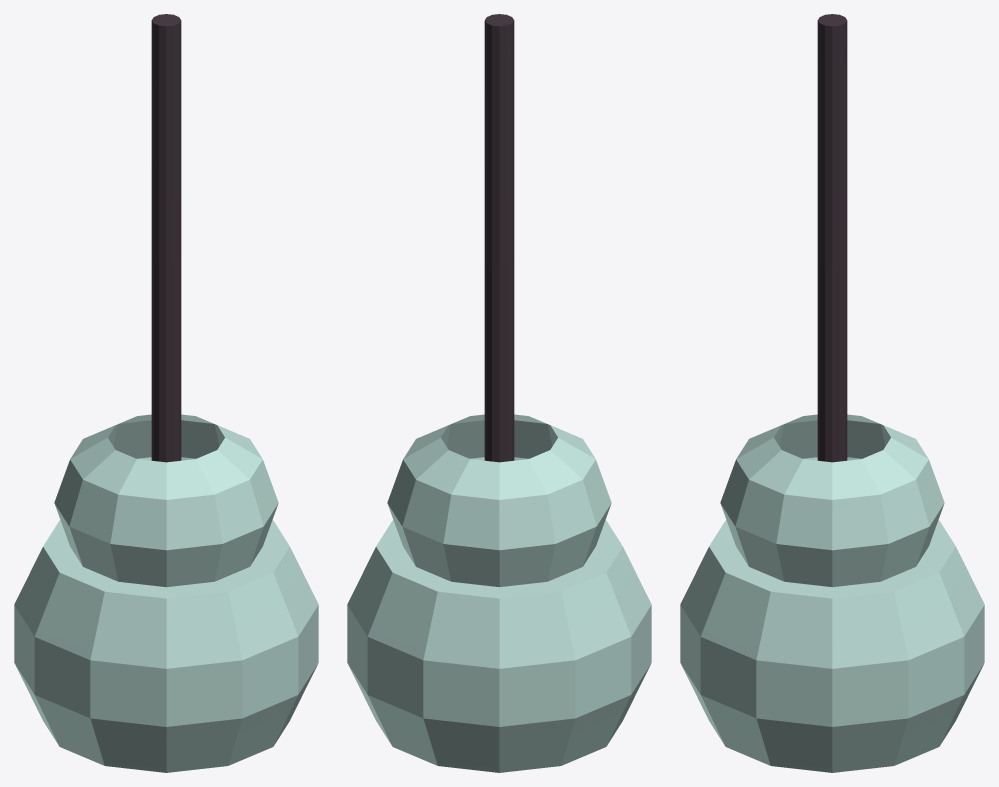
The model's file is light.fbx.
The picture shows the model from 3 angles, left to right: view 1: azimuth 30°, elevation 25°; view 2: azimuth 150°, elevation 25°; view 3: azimuth 270°, elevation 25°; orthographic projection.
Visible parts, largest first — view 1: Cylinder.007; view 2: Cylinder.007; view 3: Cylinder.007.
Part boxes in pixels (x1=…): Cylinder.007: x1=14, y1=14, x2=318, y2=772; Cylinder.007: x1=347, y1=14, x2=651, y2=772; Cylinder.007: x1=680, y1=14, x2=984, y2=772.
Bounding box in the file's own units: 120 × 314 × 120.
